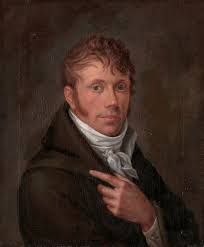no-mask: (55, 33, 148, 141)
